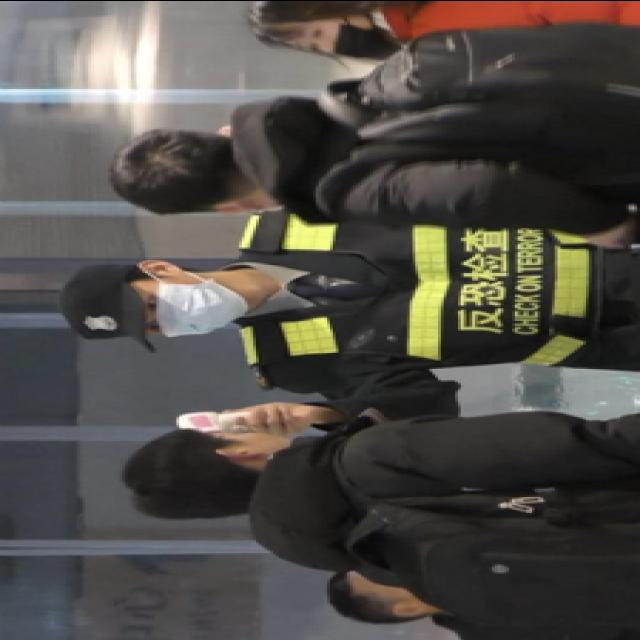with_mask: (140, 278, 250, 340), (293, 19, 393, 61)
